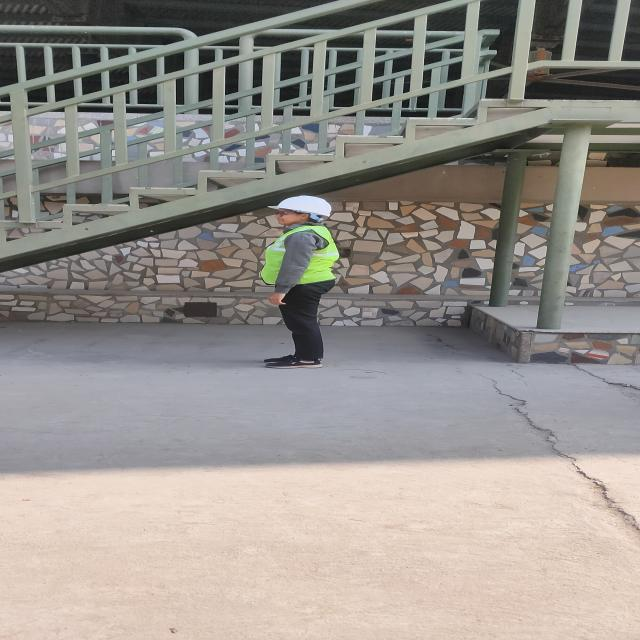safe: (262, 196, 340, 368)
